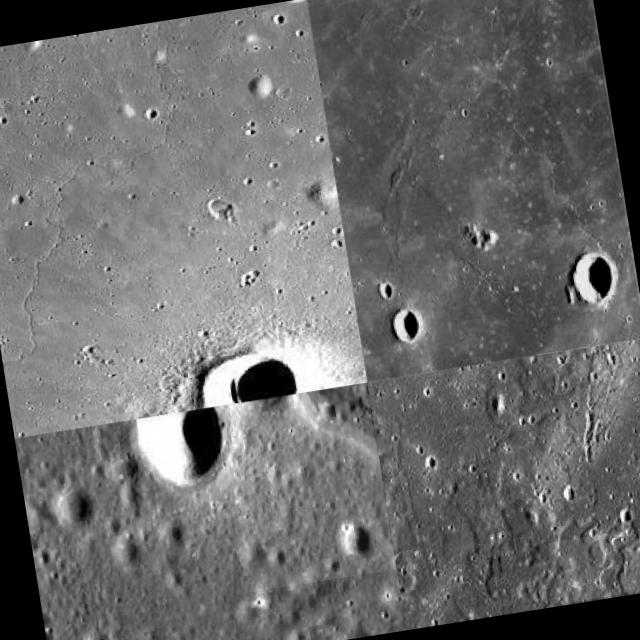rille: (308, 0, 640, 381), (217, 383, 396, 593), (547, 522, 640, 604)
